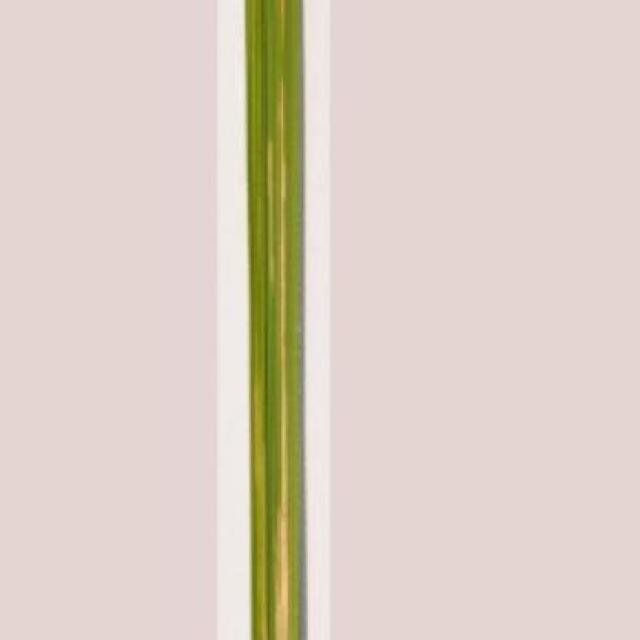Brown_Spot: (245, 0, 309, 640)
